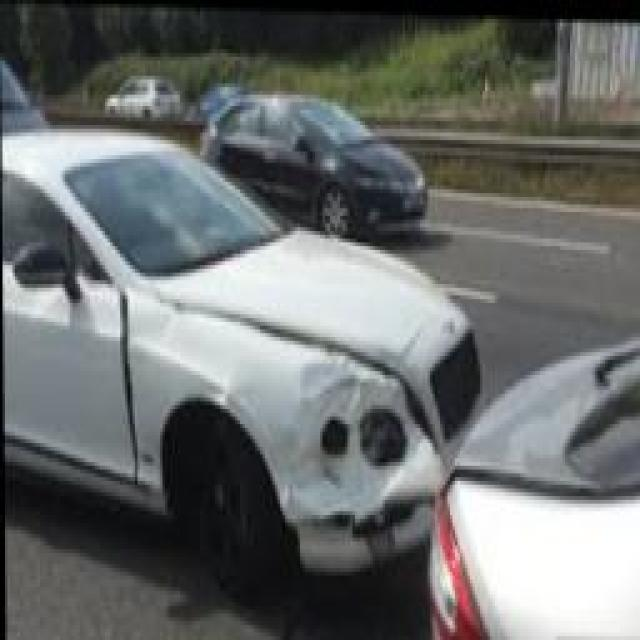Fender: (135, 283, 444, 525)
